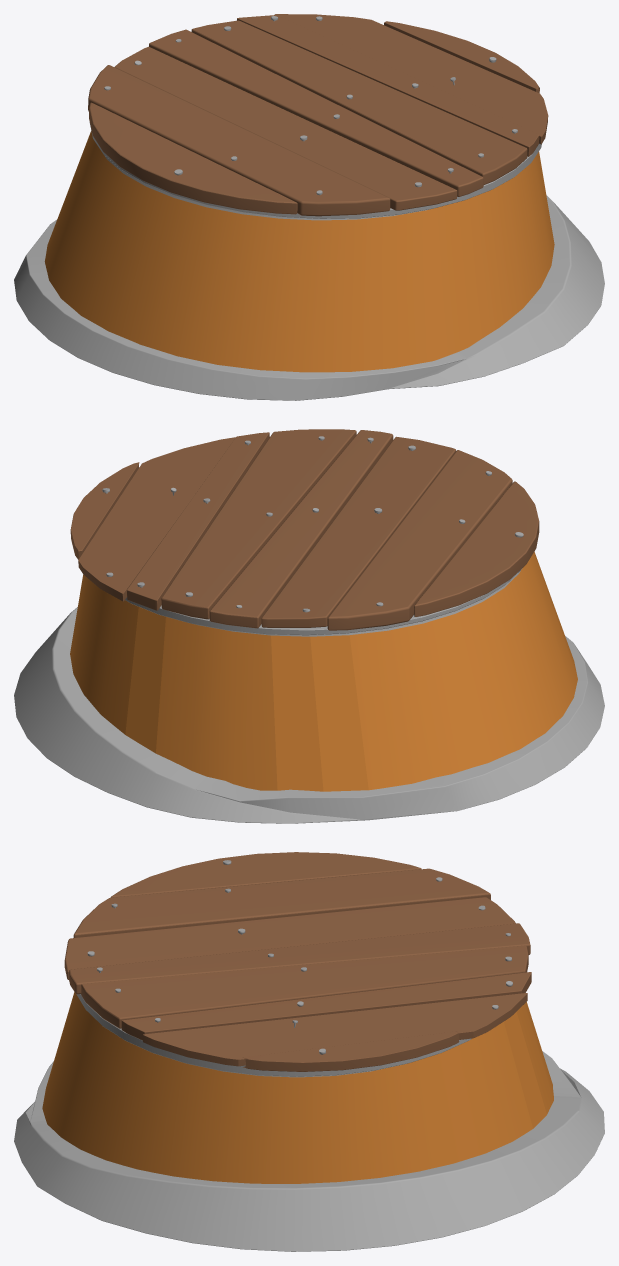
Rendered from stage.fbx.
3 views of the same model, one above another, from view 1: azimuth 30°, elevation 25°; view 2: azimuth 150°, elevation 25°; view 3: azimuth 270°, elevation 25° (orthographic).
Visible parts, largest first — view 1: stage_middle_part, stage_bottom_metal_ring, top_plank_2, top_plank_4, top_plank_3, top_plank_7, top_plank_8, top_plank_9, top_plank_6, top_plank_1; view 2: stage_middle_part, stage_bottom_metal_ring, top_plank_4, top_plank_2, top_plank_3, top_plank_8, top_plank_7, top_plank_9, top_plank_6, top_plank_1; view 3: stage_middle_part, stage_bottom_metal_ring, top_plank_4, top_plank_2, top_plank_3, top_plank_8, top_plank_7, top_plank_6, top_plank_9, top_plank_1.
Boxes of the visible parts, left/top/right/bottom form: stage_middle_part: left=44, top=122, right=554, bottom=372; stage_bottom_metal_ring: left=14, top=195, right=604, bottom=400; top_plank_2: left=88, top=65, right=390, bottom=216; top_plank_4: left=191, top=20, right=527, bottom=184; top_plank_3: left=114, top=46, right=457, bottom=210; top_plank_7: left=149, top=29, right=483, bottom=196; top_plank_8: left=274, top=14, right=548, bottom=144; top_plank_9: left=89, top=102, right=297, bottom=214; top_plank_6: left=237, top=15, right=539, bottom=156; top_plank_1: left=384, top=21, right=539, bottom=93; stage_middle_part: left=70, top=551, right=577, bottom=791; stage_bottom_metal_ring: left=14, top=607, right=604, bottom=823; top_plank_4: left=161, top=429, right=356, bottom=619; top_plank_2: left=327, top=450, right=512, bottom=630; top_plank_3: left=261, top=436, right=455, bottom=627; top_plank_8: left=78, top=437, right=235, bottom=601; top_plank_7: left=209, top=430, right=393, bottom=628; top_plank_9: left=414, top=481, right=539, bottom=616; top_plank_6: left=127, top=432, right=269, bottom=610; top_plank_1: left=70, top=462, right=139, bottom=559; stage_middle_part: left=42, top=992, right=553, bottom=1183; stage_bottom_metal_ring: left=14, top=1051, right=604, bottom=1251; top_plank_4: left=81, top=945, right=528, bottom=1028; top_plank_2: left=73, top=868, right=490, bottom=937; top_plank_3: left=64, top=897, right=515, bottom=979; top_plank_8: left=143, top=993, right=527, bottom=1066; top_plank_7: left=69, top=923, right=530, bottom=994; top_plank_6: left=121, top=972, right=531, bottom=1040; top_plank_9: left=111, top=852, right=421, bottom=897; top_plank_1: left=242, top=1031, right=459, bottom=1071.
Bounding box in the file's own units: 410 × 139 × 405.
